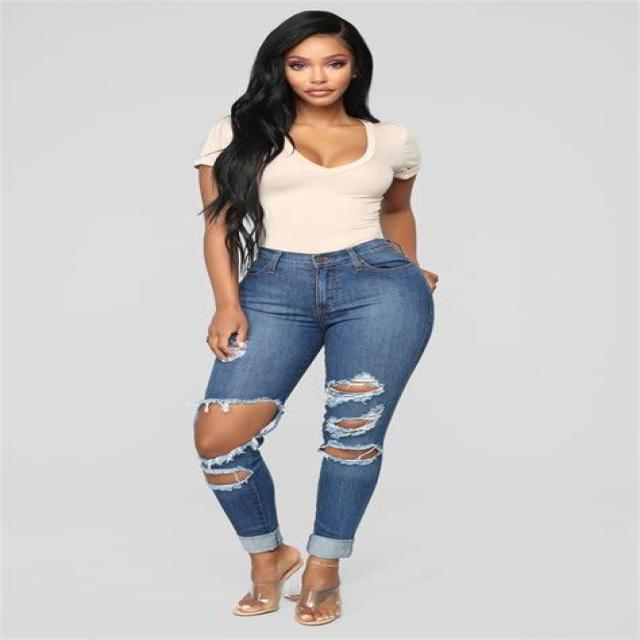Tshirt: (195, 109, 418, 255)
pants: (193, 242, 435, 557)
